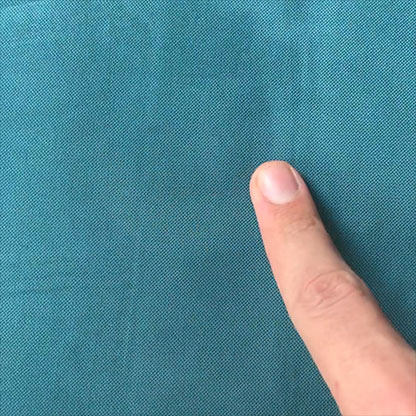fingertip: (238, 152, 327, 220)
